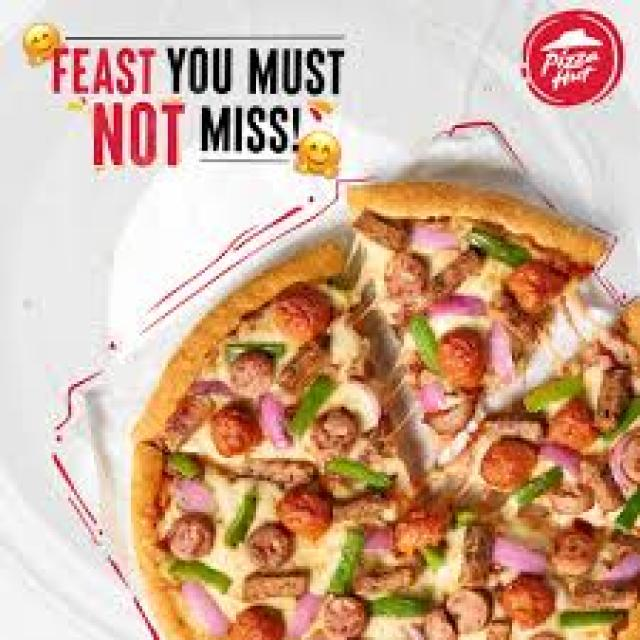Pizza: (173, 242, 640, 640)
